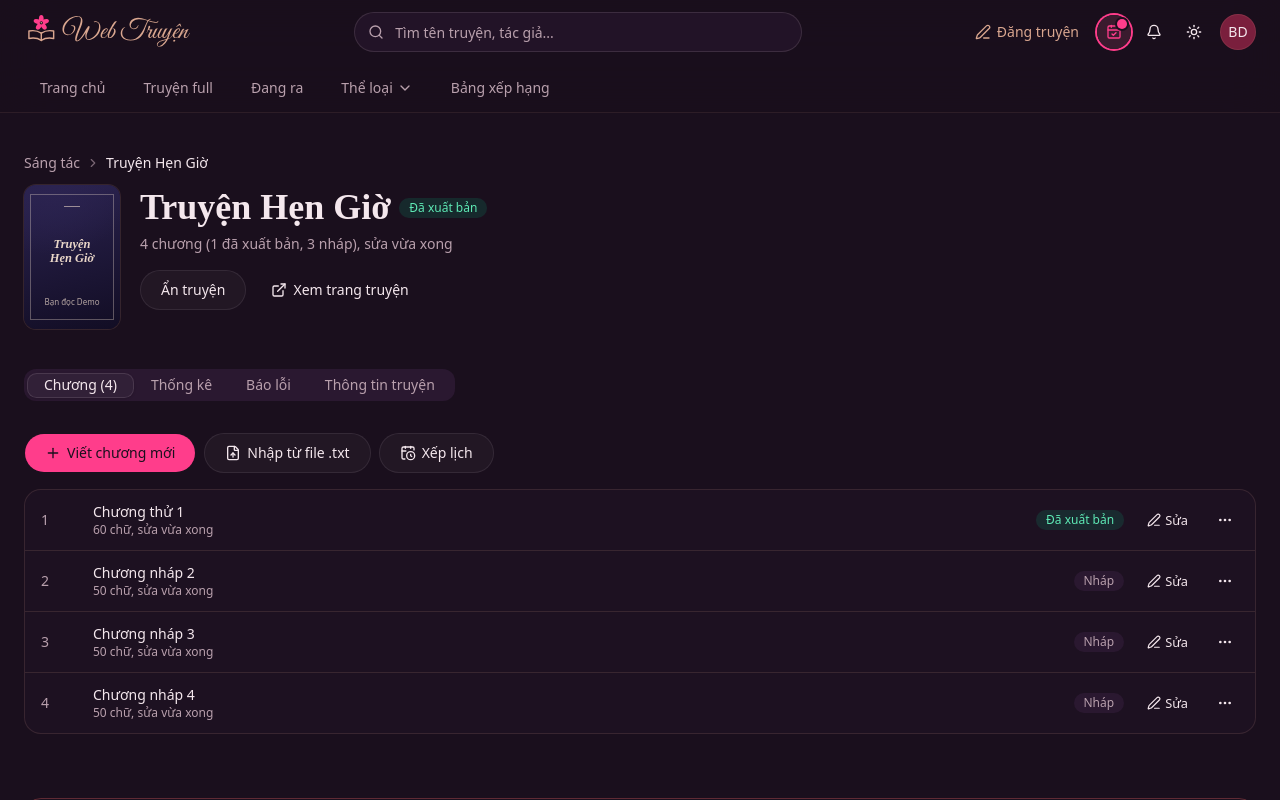
xếp lịch 3 chương nháp mỗi ngày: xem trước đúng thứ tự rồi lưu
Click the button "Xếp lịch" at (436, 453), box [379, 433, 494, 473]
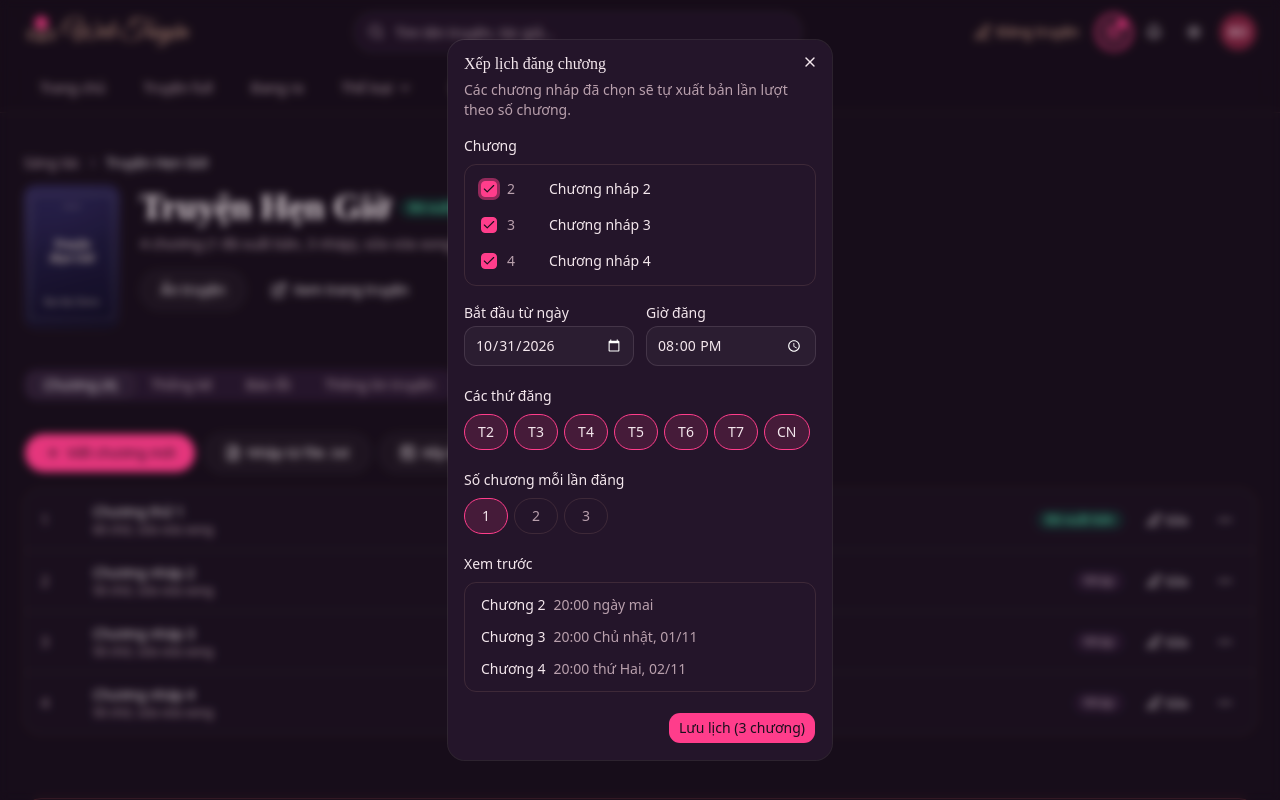
Mỗi lần 2 chương: chương 2 và 3 cùng giờ
Click the radio button labelled "2" at (536, 516), box [514, 498, 558, 534]
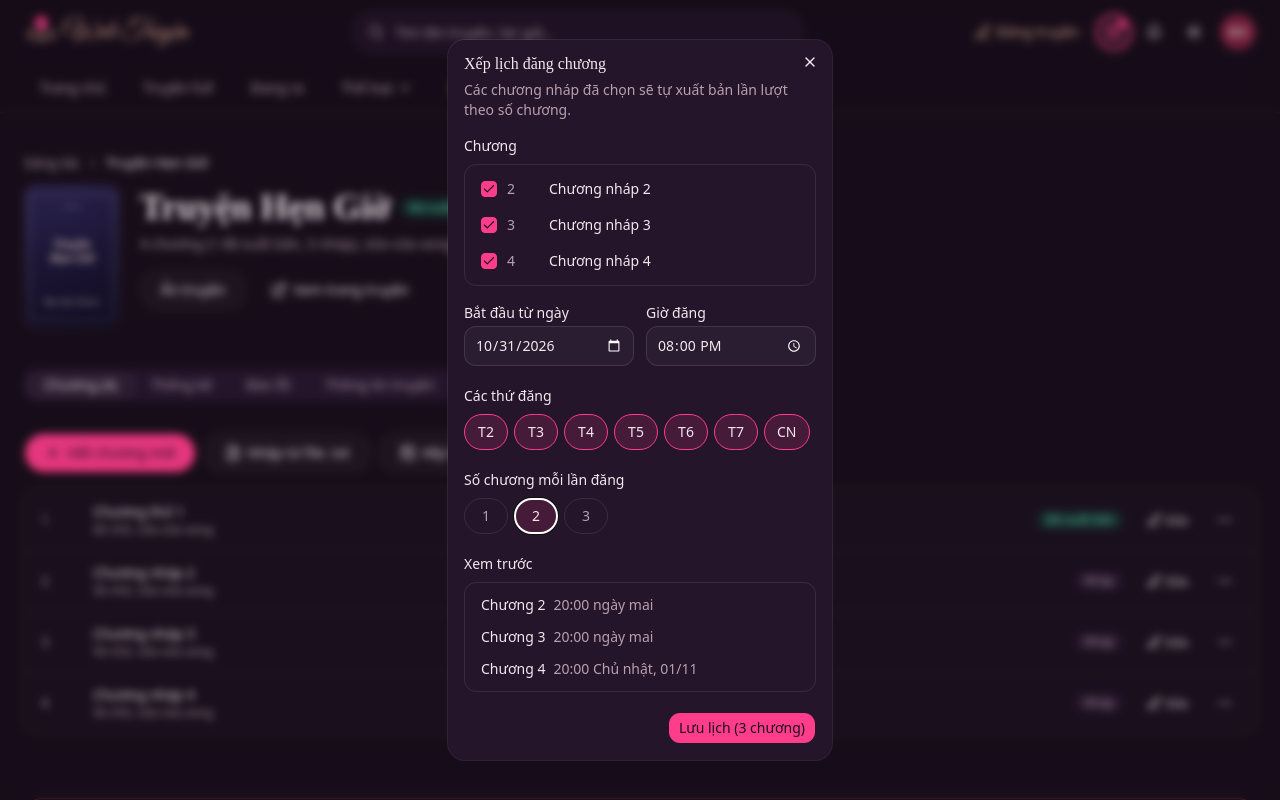
Now the 1st text "20:00 ngày mai" is shown, box [554, 595, 653, 615]
Click the button "Lưu lịch (3 chương)" at (742, 728), box [668, 712, 816, 744]
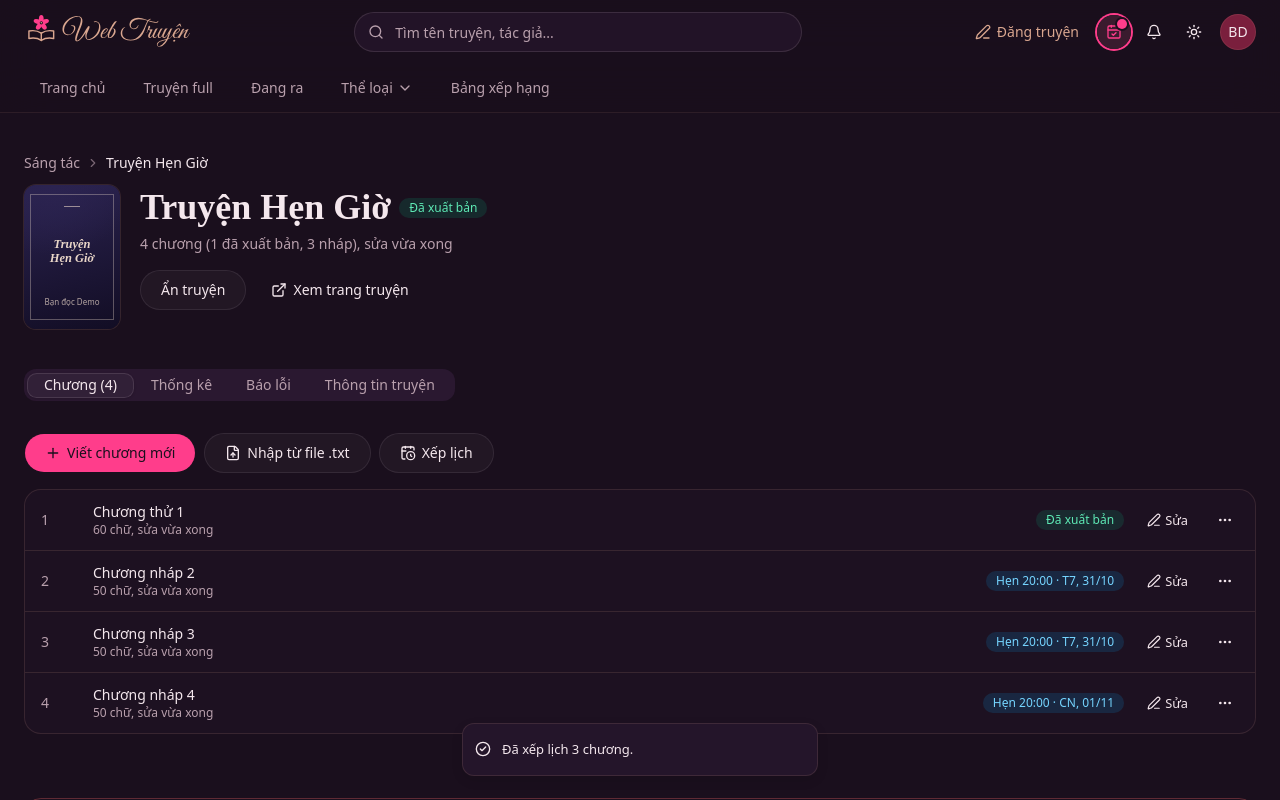
Now the text "Đã xếp lịch 3 chương." is shown, box [502, 740, 633, 759]
